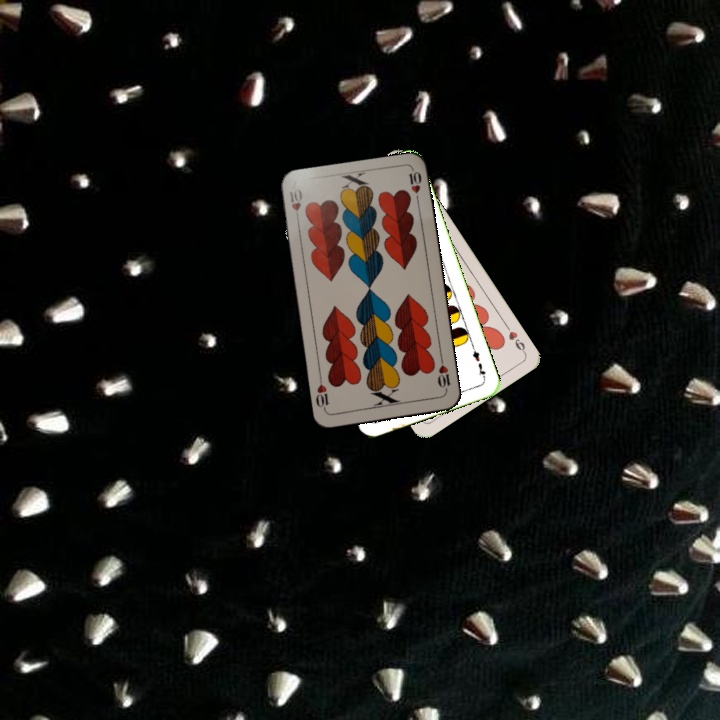E7: (468, 342, 488, 382)
H10: (433, 354, 453, 394), (285, 185, 305, 225)
H9: (501, 320, 528, 356)
